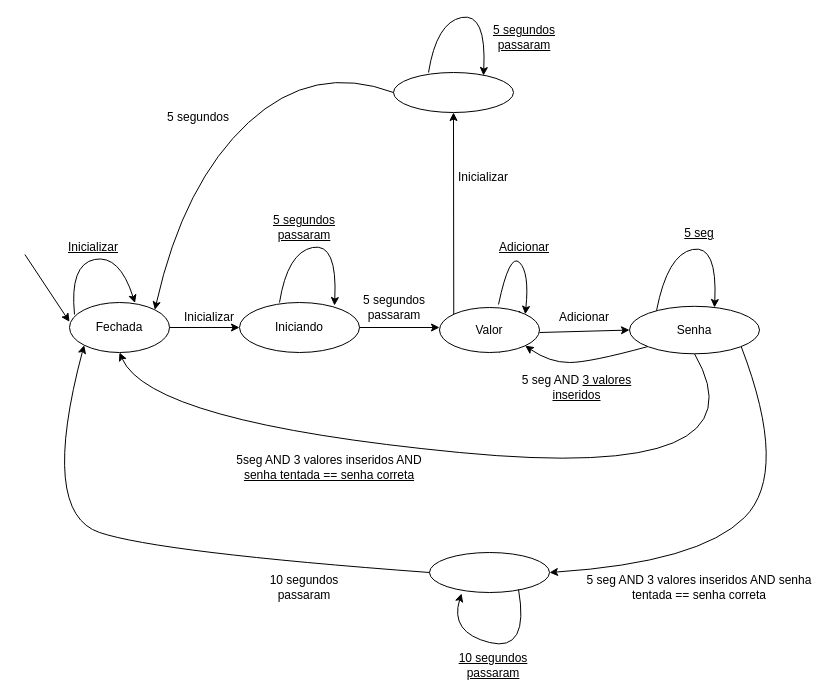
This 832x700 diagram has some shape labels left out. The centre of each missing label's shape, as x and y in pixels:
"Aberta" goes at point 489,572.
"Cancelando" goes at point 453,92.
